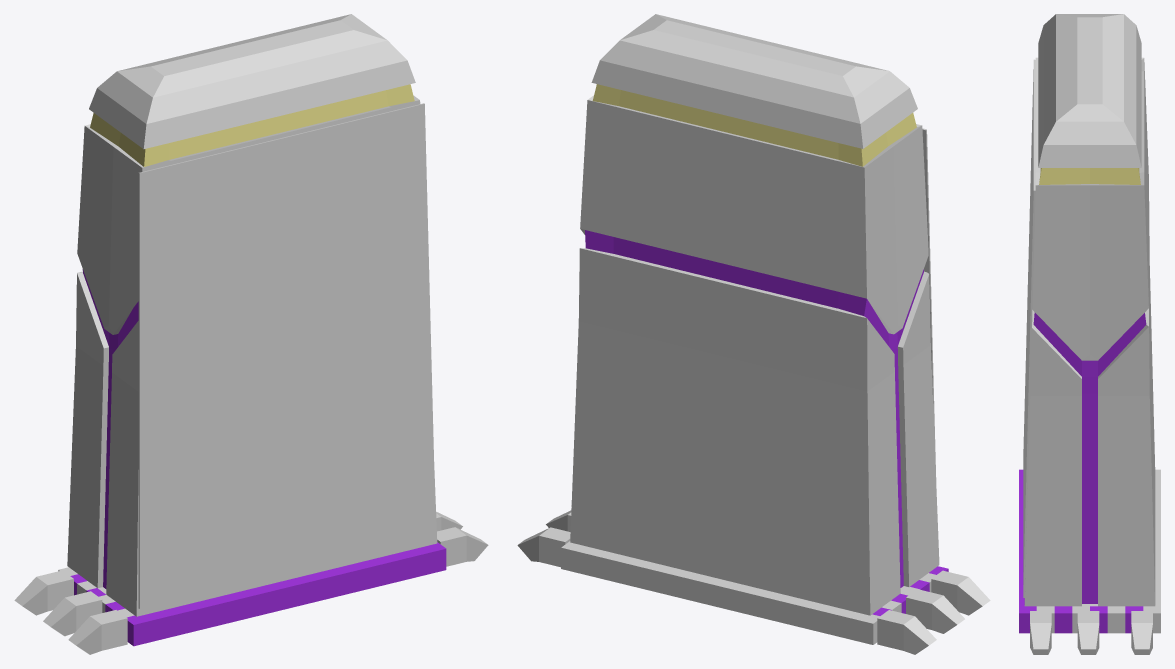
The model's file is TowerScreen.glb.
3 views of the same model, side by side, from view 1: azimuth 30°, elevation 25°; view 2: azimuth 150°, elevation 25°; view 3: azimuth 270°, elevation 25° (orthographic). The views are drawn at different scales.
Visible parts, largest first — view 1: Screen, Cube; view 2: Cube, Screen; view 3: Cube, Screen.
Boxes of the visible parts, x1,y1,x2,y2 form: Screen: [138, 103, 435, 608]; Cube: [14, 14, 488, 654]; Cube: [517, 14, 990, 654]; Screen: [922, 128, 936, 479]; Cube: [1019, 14, 1160, 654]; Screen: [1023, 59, 1035, 597].
Bounding box in the file's own units: 3.74 × 4.66 × 1.18.
